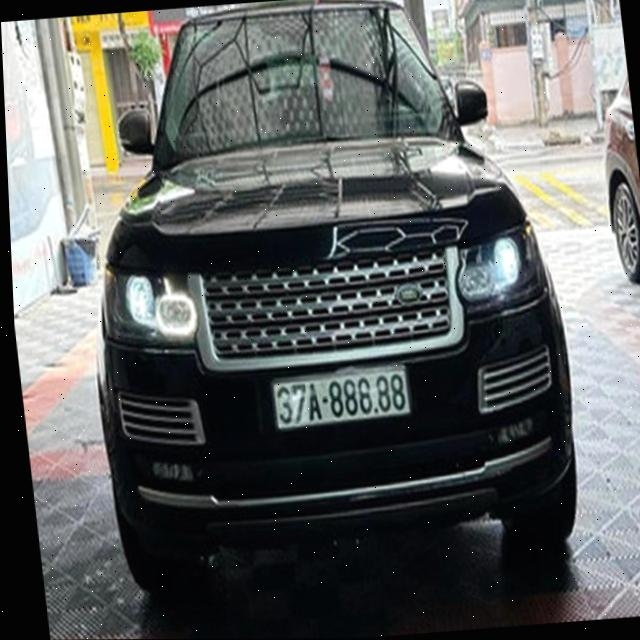car: (53, 0, 590, 623), (584, 55, 640, 321)
plate: (265, 363, 421, 432)
